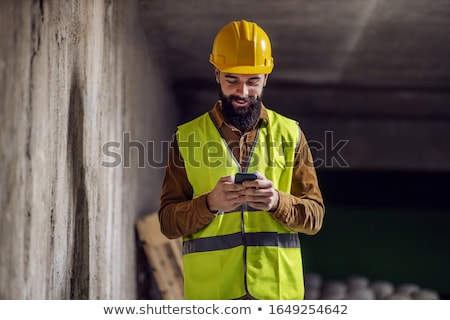hard hat: (207, 19, 280, 73)
